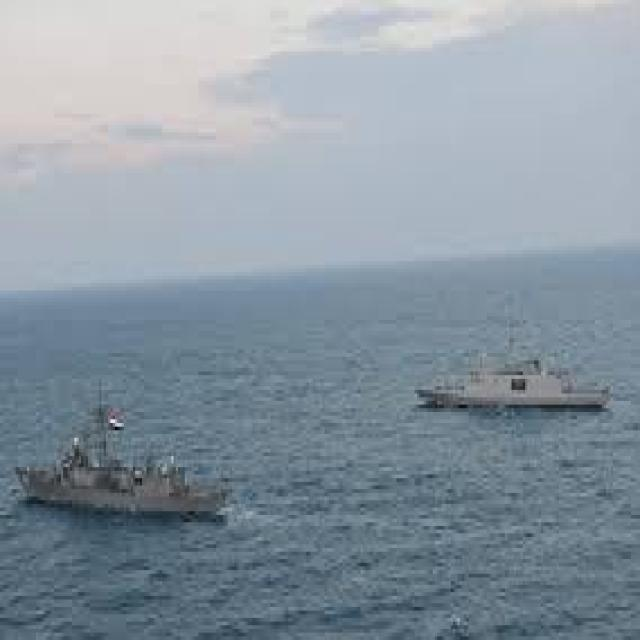navalvessels: (28, 392, 226, 544), (402, 308, 616, 419)
